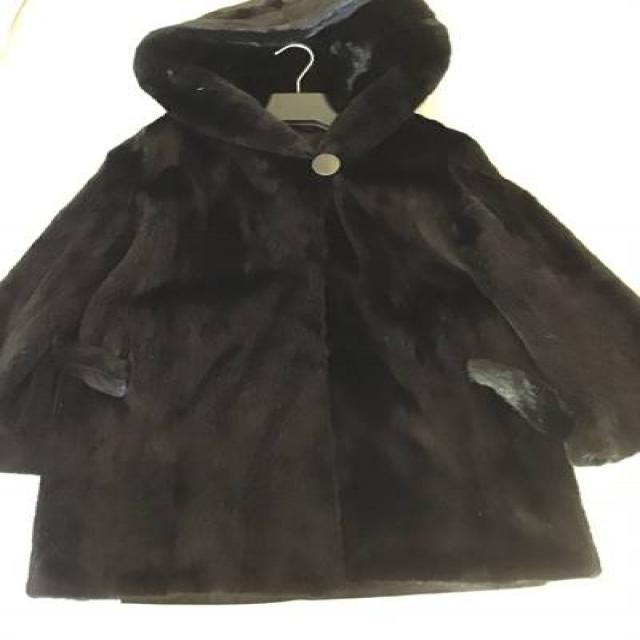Clothes -Biodegradable-: (0, 0, 640, 603)
